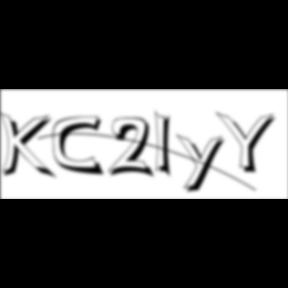2: (108, 117, 158, 181)
C: (53, 115, 108, 178)
K: (0, 110, 58, 182)
Y: (216, 110, 282, 176)
l: (156, 108, 179, 182)
y: (176, 132, 230, 196)
